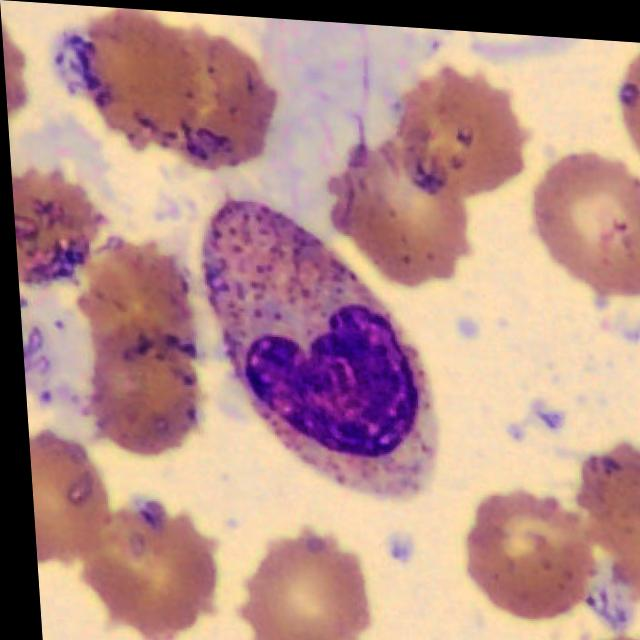Bastonete: (199, 199, 432, 492)
